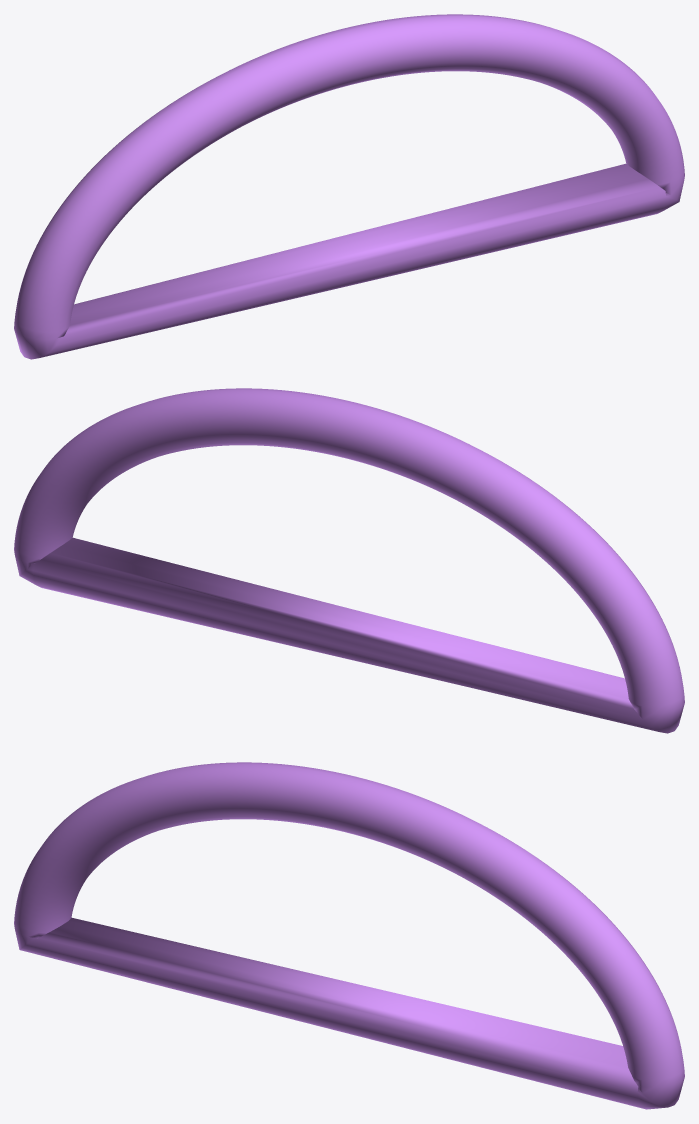
Rendered from canopy-frame-BgjnPqmt.glb.
3 views of the same model, one above another, from view 1: azimuth 30°, elevation 25°; view 2: azimuth 150°, elevation 25°; view 3: azimuth 330°, elevation 25° (orthographic).
Visible parts, largest first — view 1: R3D_canopy-frame_Body_0; view 2: R3D_canopy-frame_Body_0; view 3: R3D_canopy-frame_Body_0.
Boxes of the visible parts, x1,y1,x2,y2 form: R3D_canopy-frame_Body_0: (14,14,684,359); R3D_canopy-frame_Body_0: (14,388,684,733); R3D_canopy-frame_Body_0: (14,762,684,1109).
Bounding box in the file's own units: 3.24 × 1.19 × 0.24.
